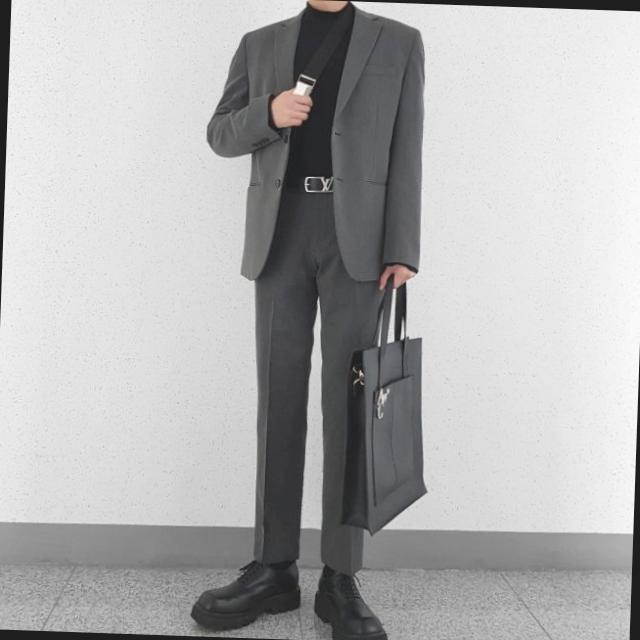blazer: (200, 0, 427, 287)
slacks: (248, 170, 397, 572)
